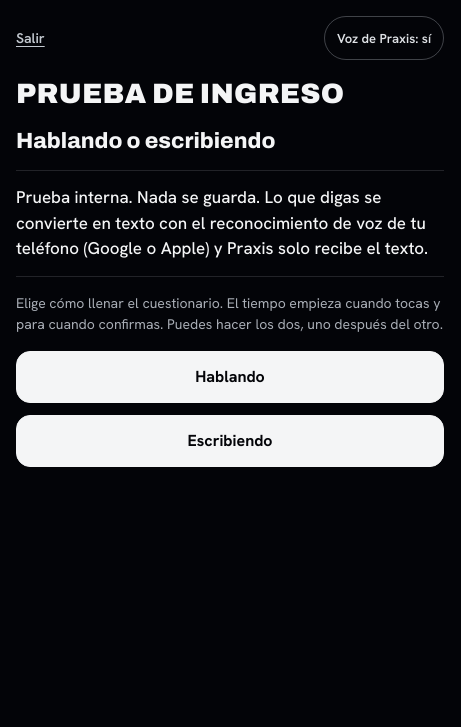
HABLANDO: el flujo completo › Praxis dice (y muestra) la entrada, cada bloque con su explicación y cada pregunta con su ejemplo
Click the button "Hablando" at (230, 377), box x1=16 y1=351 x2=444 y2=403
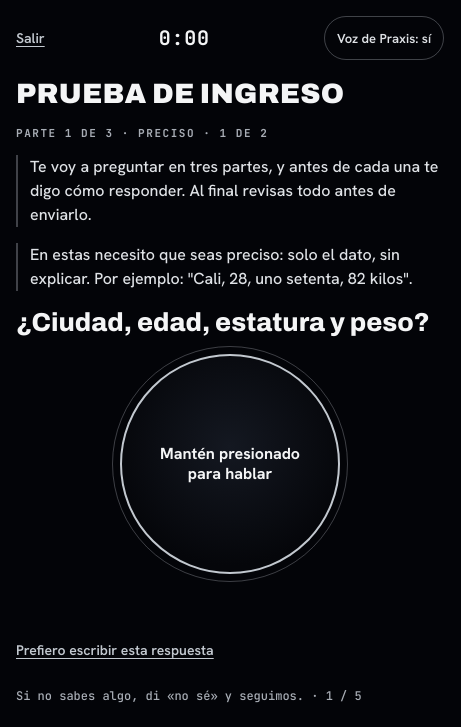
Expected: the text "Te voy a preguntar en tres partes, y antes de cada una te digo cómo responder. Al final revisas todo antes de enviarlo." is shown, x1=30 y1=156 x2=438 y2=225
Expected: the text "En estas necesito que seas preciso: solo el dato, sin explicar. Por ejemplo: \"Cali, 28, uno setenta, 82 kilos\"." is shown, x1=30 y1=244 x2=413 y2=289
Expected: the heading "¿Ciudad, edad, estatura y peso?" is shown, x1=16 y1=307 x2=444 y2=338
Press the mouse on the button "Mantén presionado para hablar" at (230, 464), box x1=120 y1=354 x2=340 y2=574
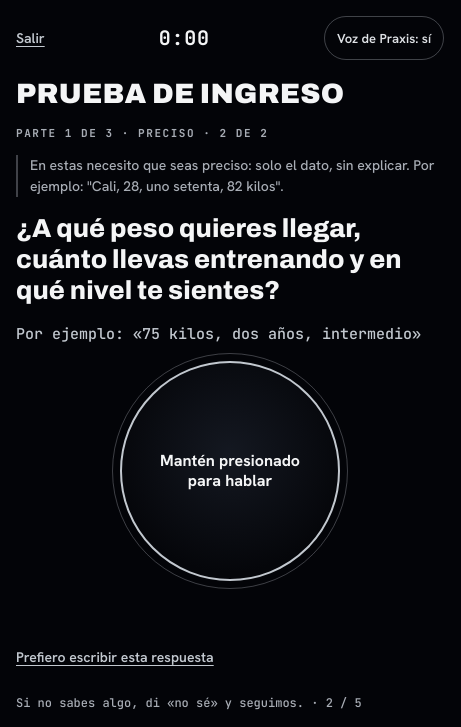
Expected: the heading "¿A qué peso quieres llegar, cuánto llevas entrenando y en qué nivel te sientes?" is shown, x1=16 y1=213 x2=444 y2=307
Expected: the text "Por ejemplo: «75 kilos, dos años, intermedio»" is shown, x1=16 y1=323 x2=444 y2=345
Press the mouse on the button "Mantén presionado para hablar" at (230, 471), box x1=120 y1=361 x2=340 y2=581
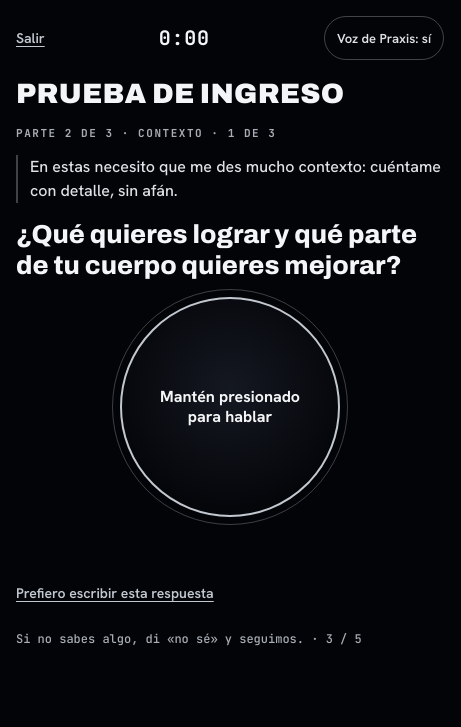
Expected: the heading "¿Qué quieres lograr y qué parte de tu cuerpo quieres mejorar?" is shown, x1=16 y1=219 x2=444 y2=281
Expected: the text "En estas necesito que me des mucho contexto: cuéntame con detalle, sin afán." is shown, x1=16 y1=155 x2=444 y2=203
